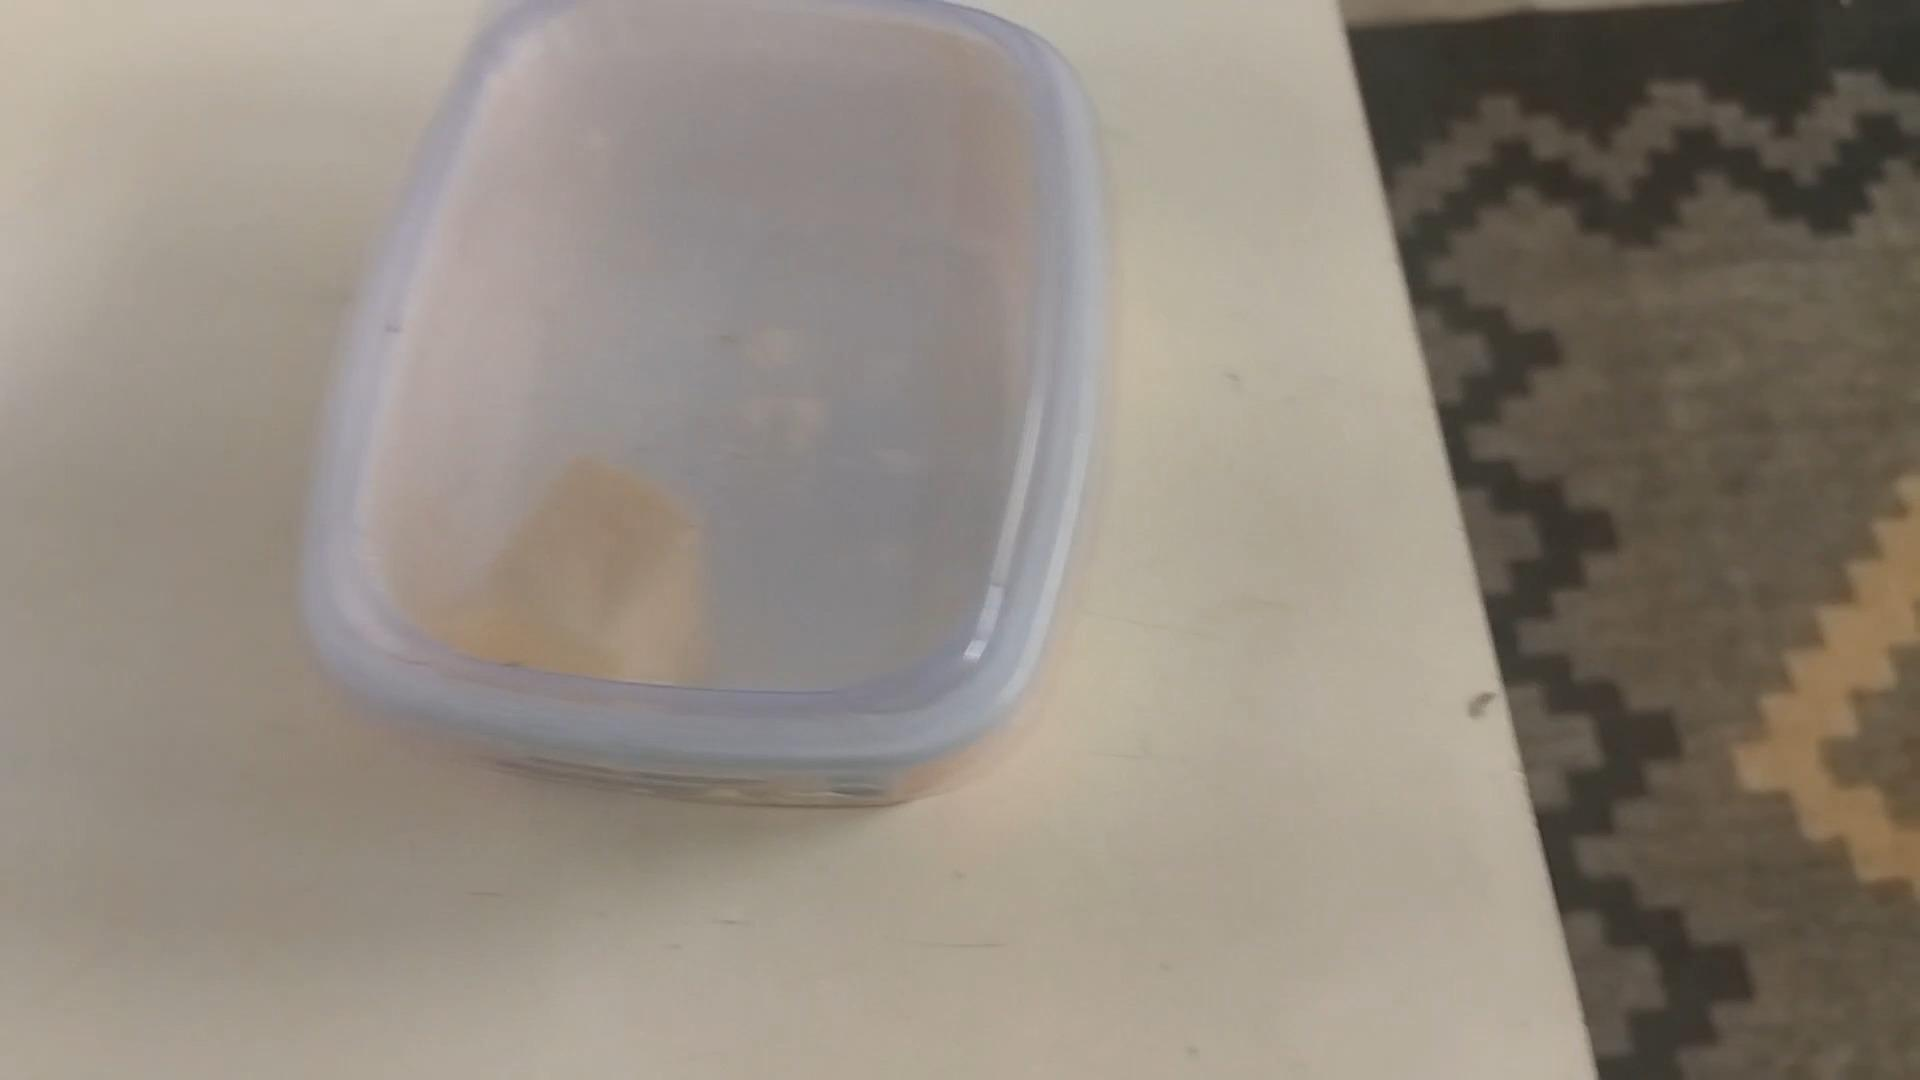butter: (307, 12, 1097, 810)
